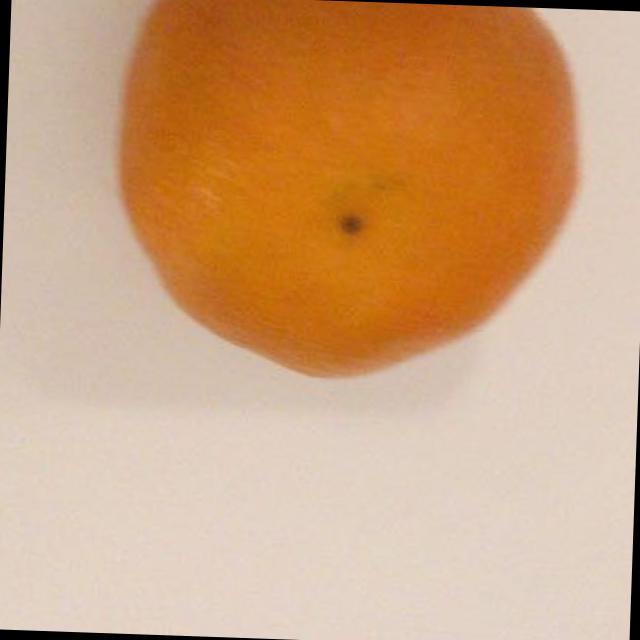Orange: (95, 0, 587, 401)
